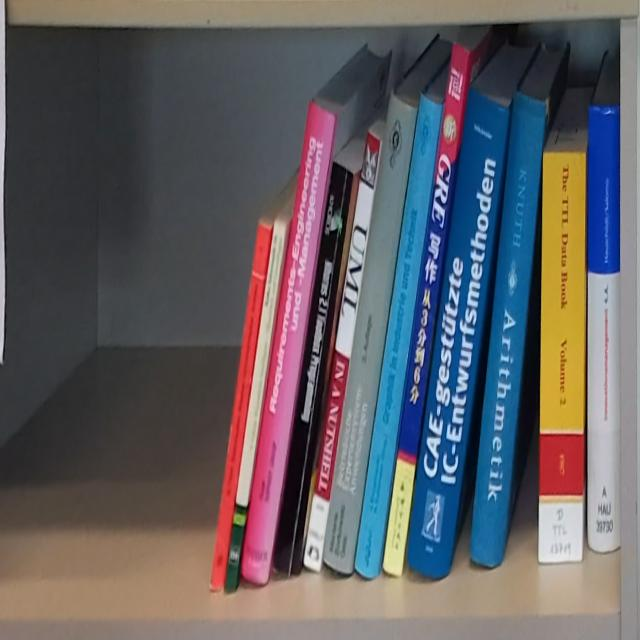Book Spine: (407, 90, 507, 583), (382, 41, 470, 580), (323, 93, 418, 574), (241, 105, 335, 589), (355, 92, 443, 581), (470, 92, 547, 569), (303, 133, 381, 572), (273, 163, 354, 579), (225, 217, 286, 592), (210, 223, 271, 591), (539, 152, 585, 563), (588, 106, 621, 552)
